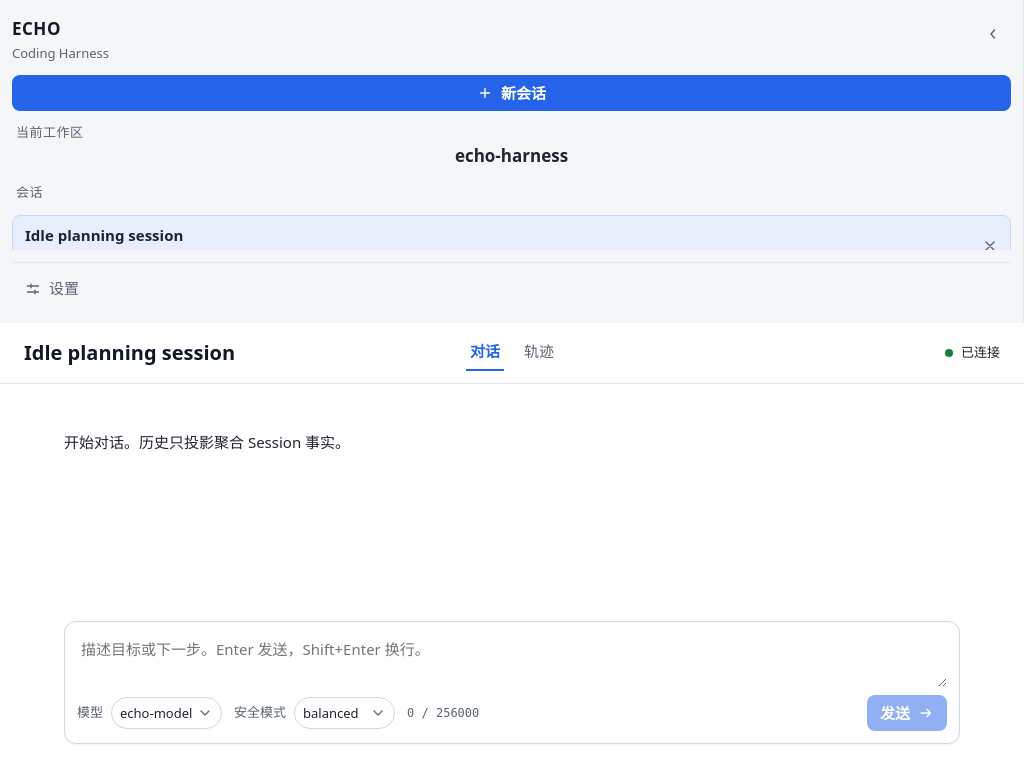
Scenario: Session rail paging through Fake transport › keeps the session and confirmation open when deletion fails
Click the button named "删除会话 Idle planning session" at (990,246), box left=974, top=230, right=1006, bottom=262
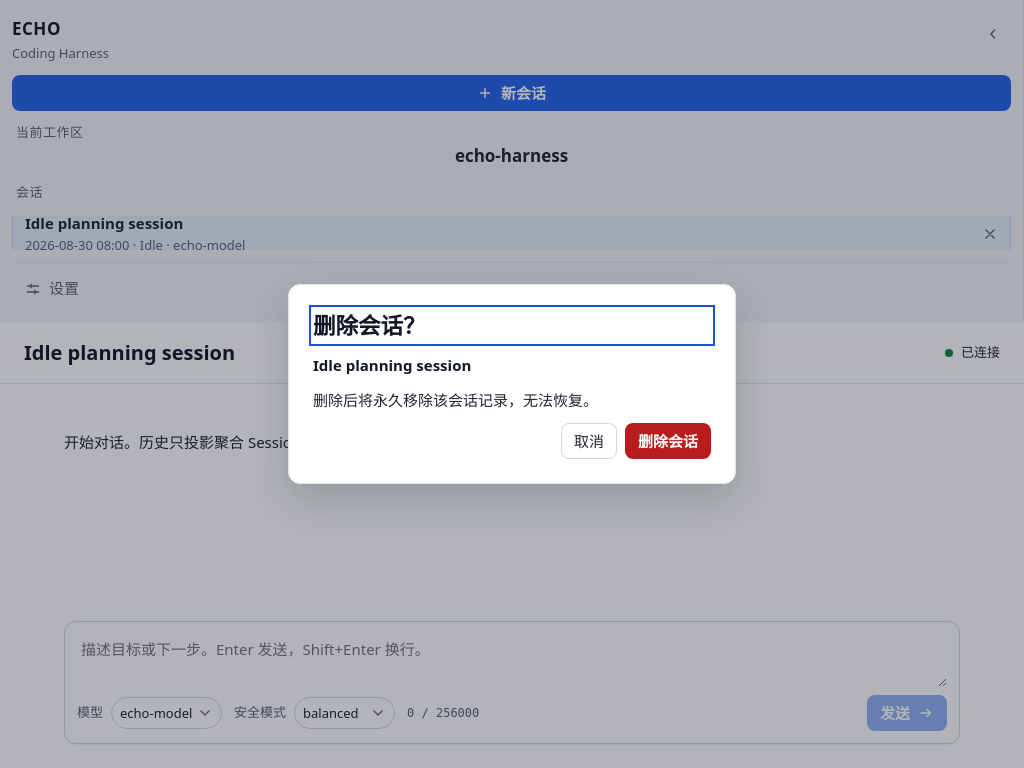
Click the button "删除会话" at (668,441), box left=625, top=423, right=711, bottom=459
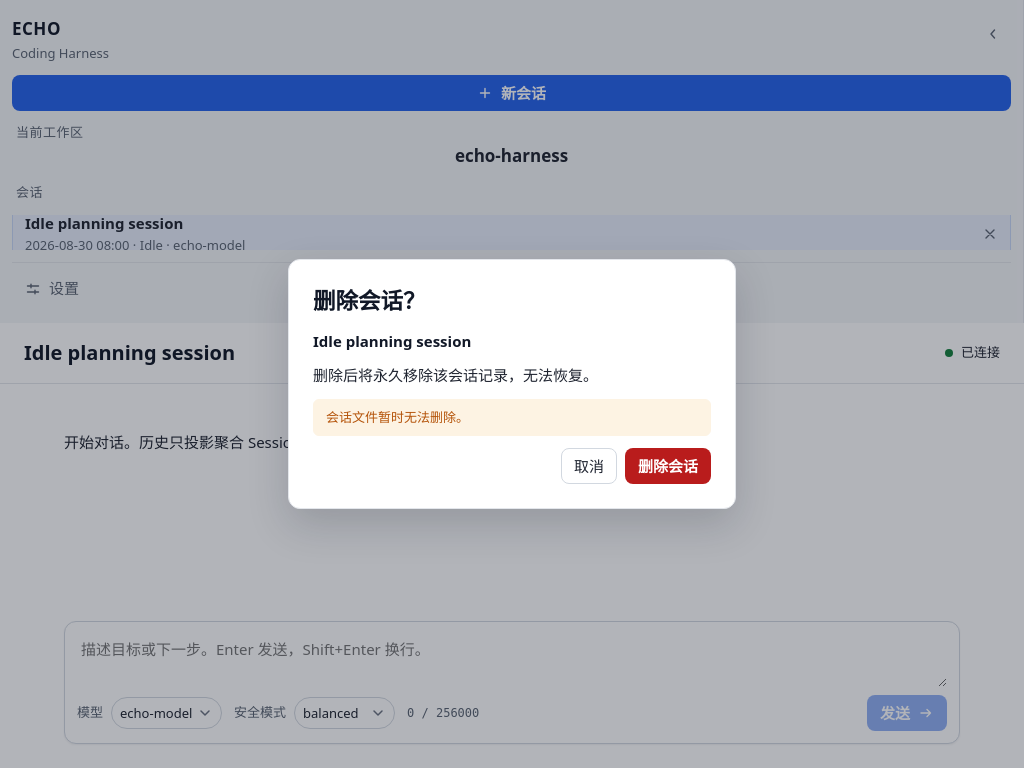
Now the dialog "删除会话？" is shown, box left=288, top=259, right=736, bottom=509
Now the text "会话文件暂时无法删除。" is shown, box left=313, top=399, right=711, bottom=436
